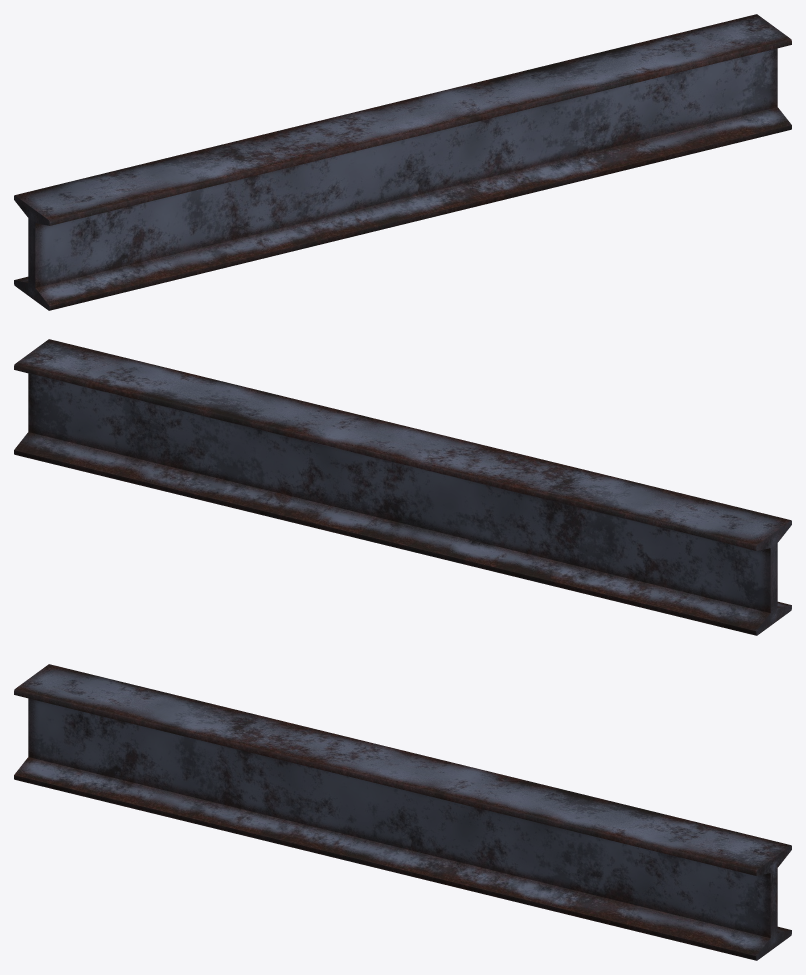
Rendered from Beam_Long.fbx.
3 views of the same model, one above another, from view 1: azimuth 30°, elevation 25°; view 2: azimuth 150°, elevation 25°; view 3: azimuth 330°, elevation 25° (orthographic).
Parts seen in each view (by area): view 1: Beam_Long; view 2: Beam_Long; view 3: Beam_Long.
Part boxes in pixels (x1,y1,x2,y2): Beam_Long: [14, 14, 791, 310]; Beam_Long: [14, 339, 791, 635]; Beam_Long: [14, 664, 791, 960].
Size of the model in its own units: 300 by 35 by 25.
